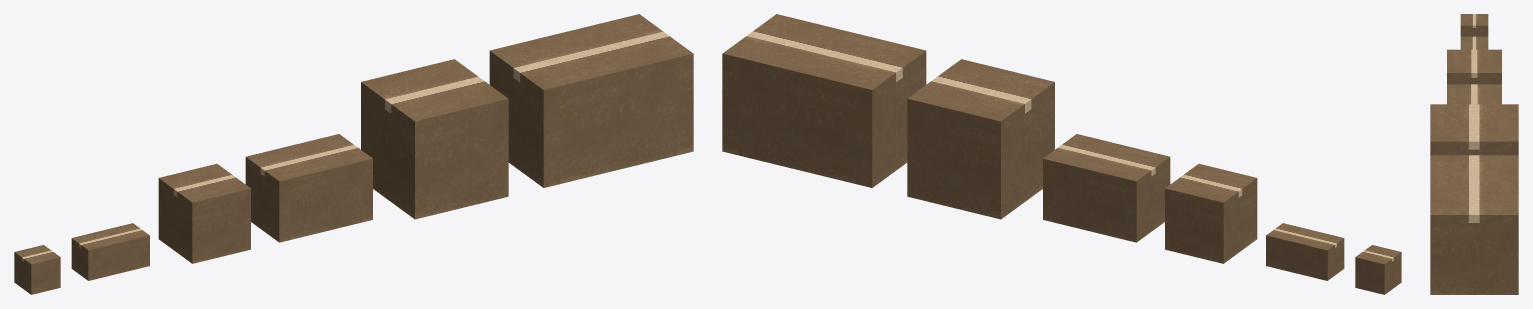
Rendered from Cardboard.fbx.
The picture shows the model from 3 angles, left to right: view 1: azimuth 30°, elevation 25°; view 2: azimuth 150°, elevation 25°; view 3: azimuth 270°, elevation 25°; orthographic projection. The views are drawn at different scales.
Parts seen in each view (by area): view 1: Cube.003, Cube.002, Cube.001, Cube, Cube.005, Cube.004; view 2: Cube.003, Cube.002, Cube.001, Cube, Cube.005, Cube.004; view 3: Cube.003, Cube.002, Cube, Cube.001, Cube.004, Cube.005.
Part boxes in pixels (bbox=[...]): Cube.003: bbox=[489, 14, 693, 187]; Cube.002: bbox=[361, 59, 508, 219]; Cube.001: bbox=[245, 134, 372, 242]; Cube: bbox=[158, 164, 250, 263]; Cube.005: bbox=[71, 223, 149, 280]; Cube.004: bbox=[14, 245, 60, 294]; Cube.003: bbox=[722, 14, 926, 187]; Cube.002: bbox=[907, 59, 1054, 219]; Cube.001: bbox=[1043, 134, 1170, 242]; Cube: bbox=[1165, 164, 1257, 263]; Cube.005: bbox=[1266, 223, 1344, 280]; Cube.004: bbox=[1355, 245, 1401, 294]; Cube.003: bbox=[1430, 155, 1518, 294]; Cube.002: bbox=[1430, 104, 1518, 155]; Cube: bbox=[1447, 49, 1501, 84]; Cube.001: bbox=[1447, 84, 1501, 104]; Cube.004: bbox=[1460, 14, 1488, 36]; Cube.005: bbox=[1460, 36, 1488, 49].
Size of the model in its own units: 616 by 89.6 by 89.6.
